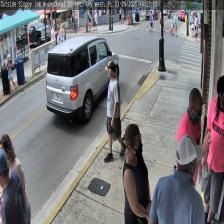person: (148, 134, 204, 224), (176, 88, 212, 221), (120, 124, 152, 223), (203, 74, 223, 224), (103, 61, 125, 161)
